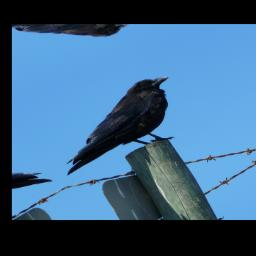Crow: (32, 70, 203, 179)
